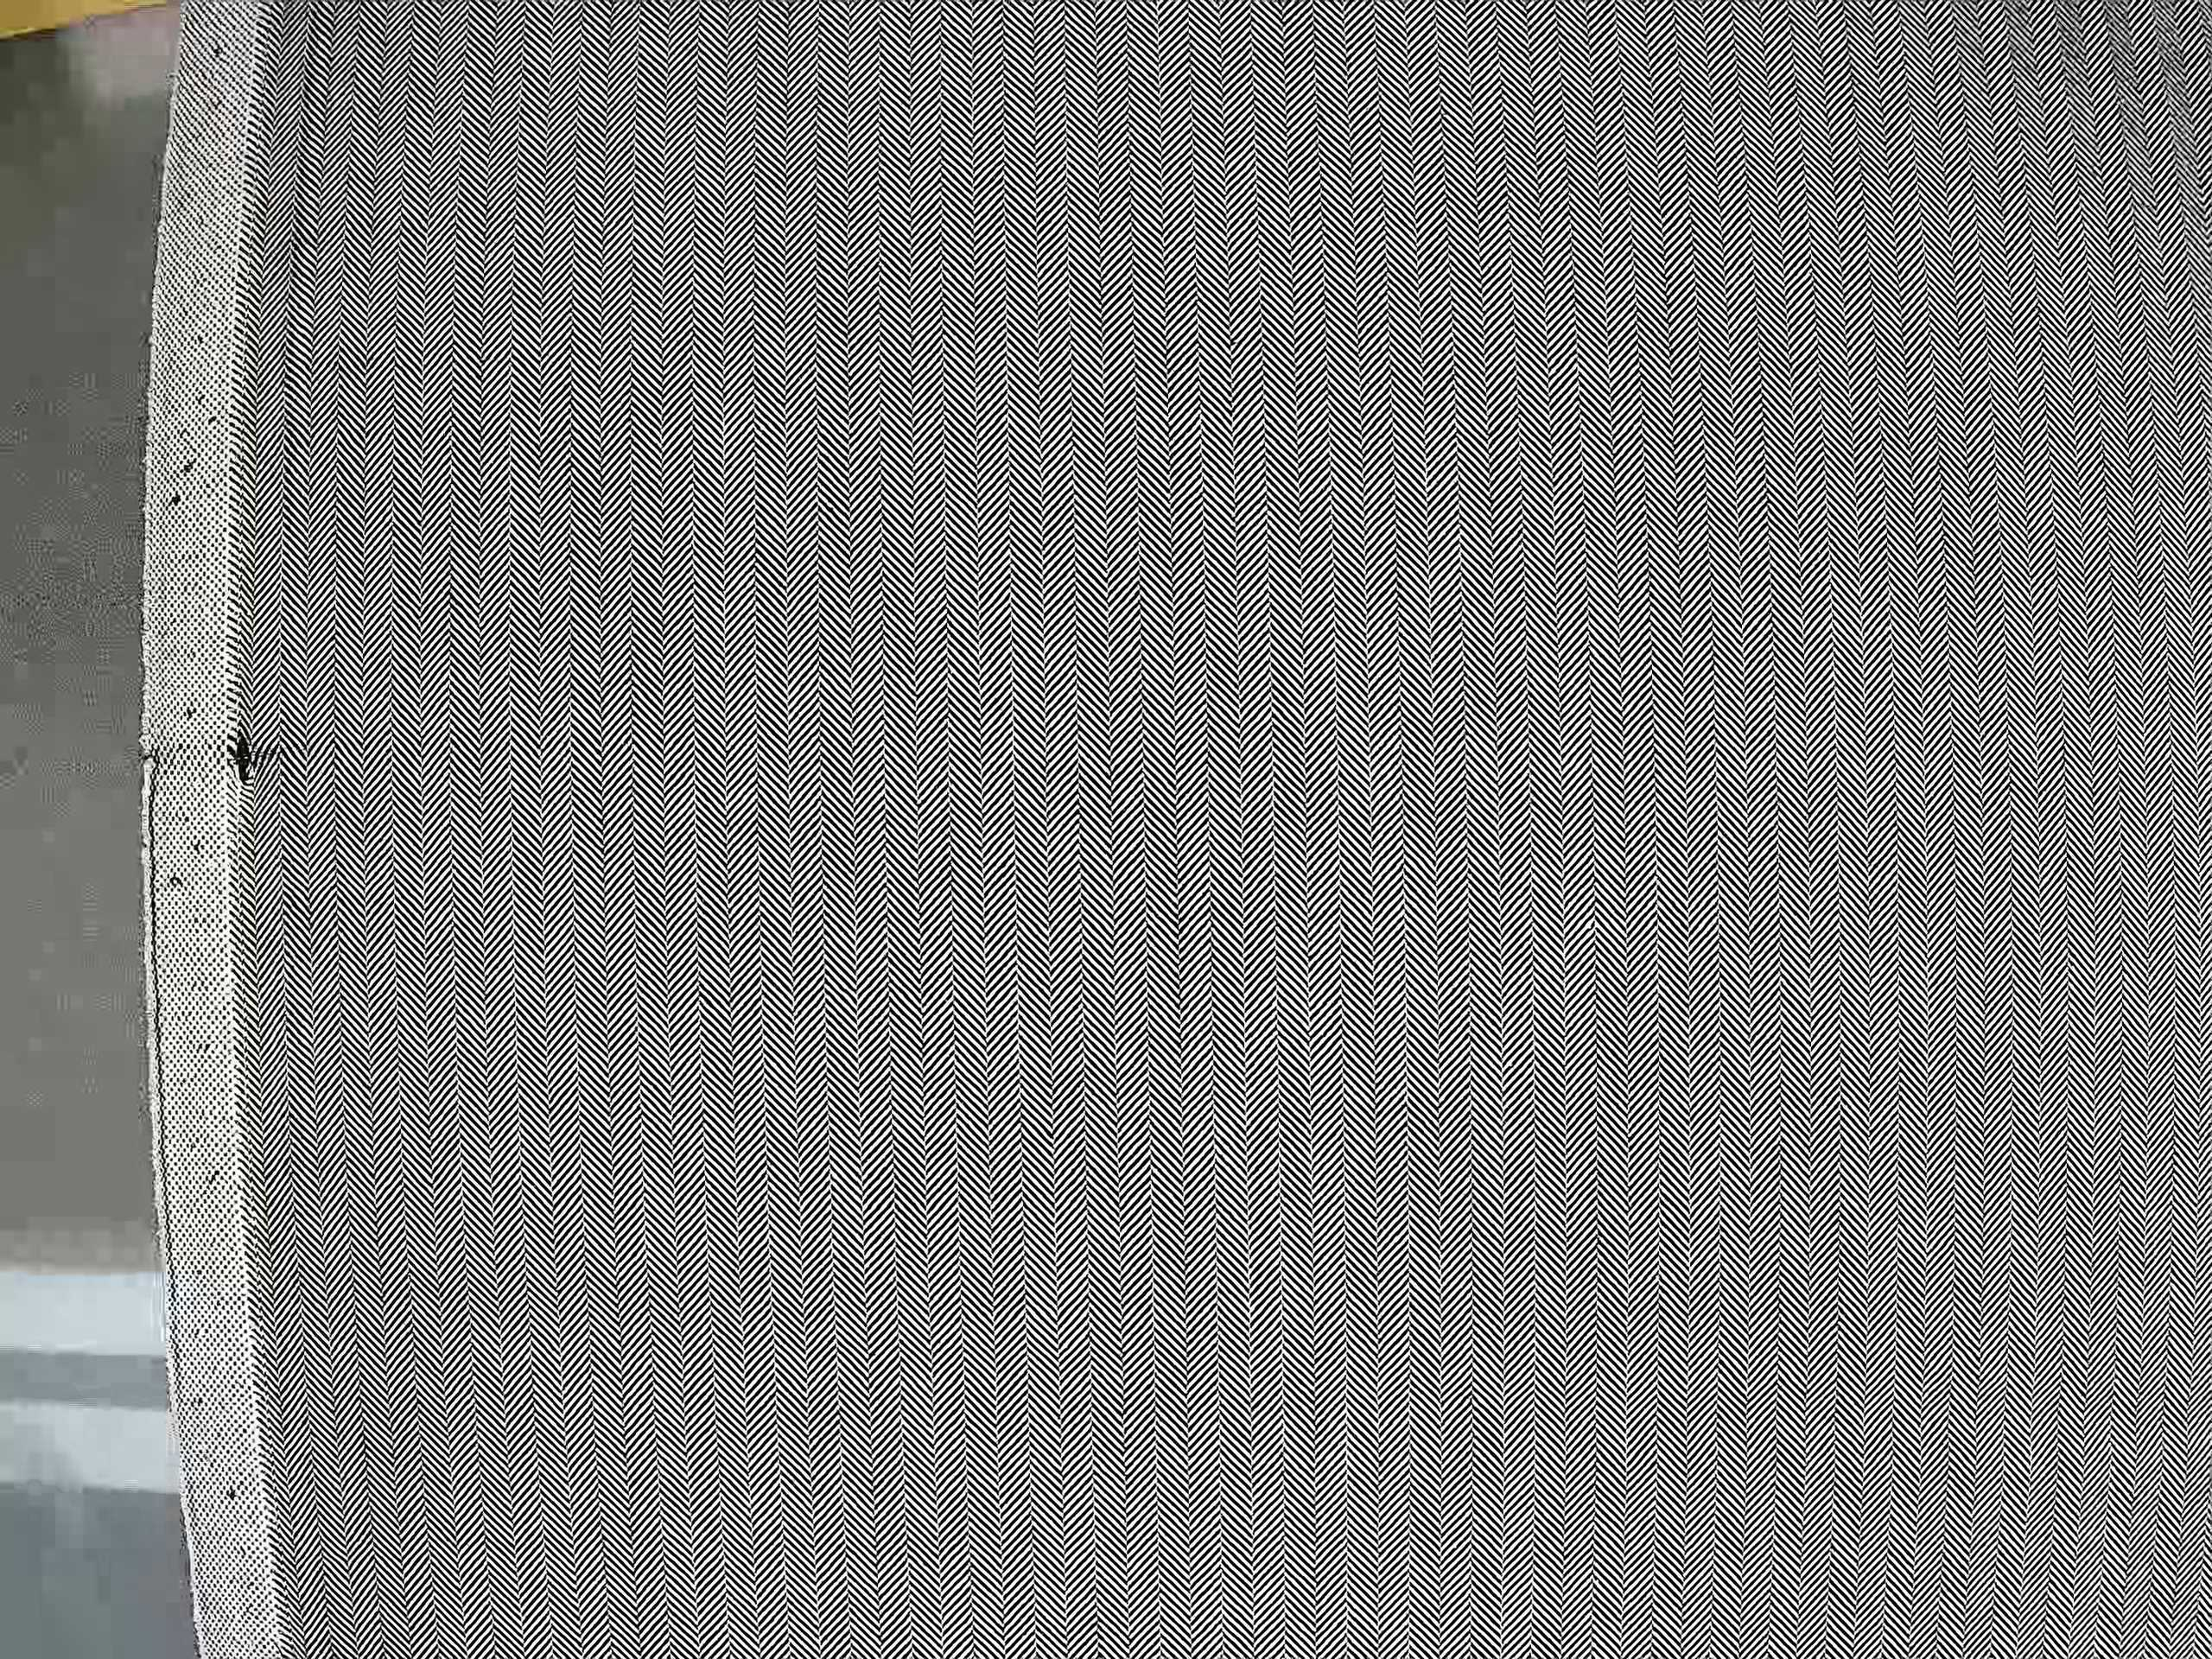thin-spinning: (202, 697, 294, 817)
